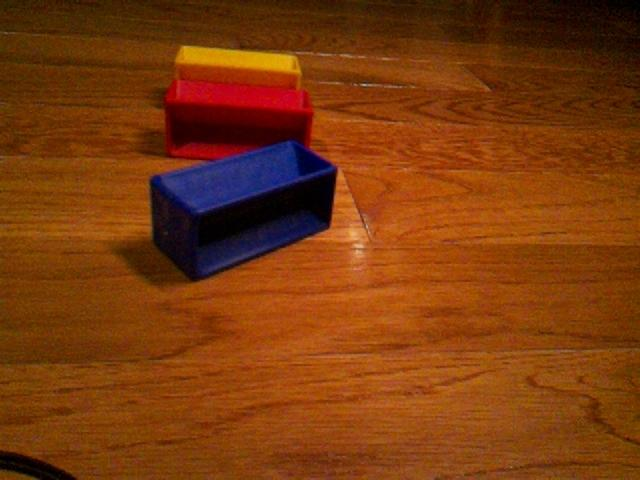blue: (148, 139, 339, 282)
red: (163, 77, 315, 161)
yellow: (173, 44, 303, 90)
